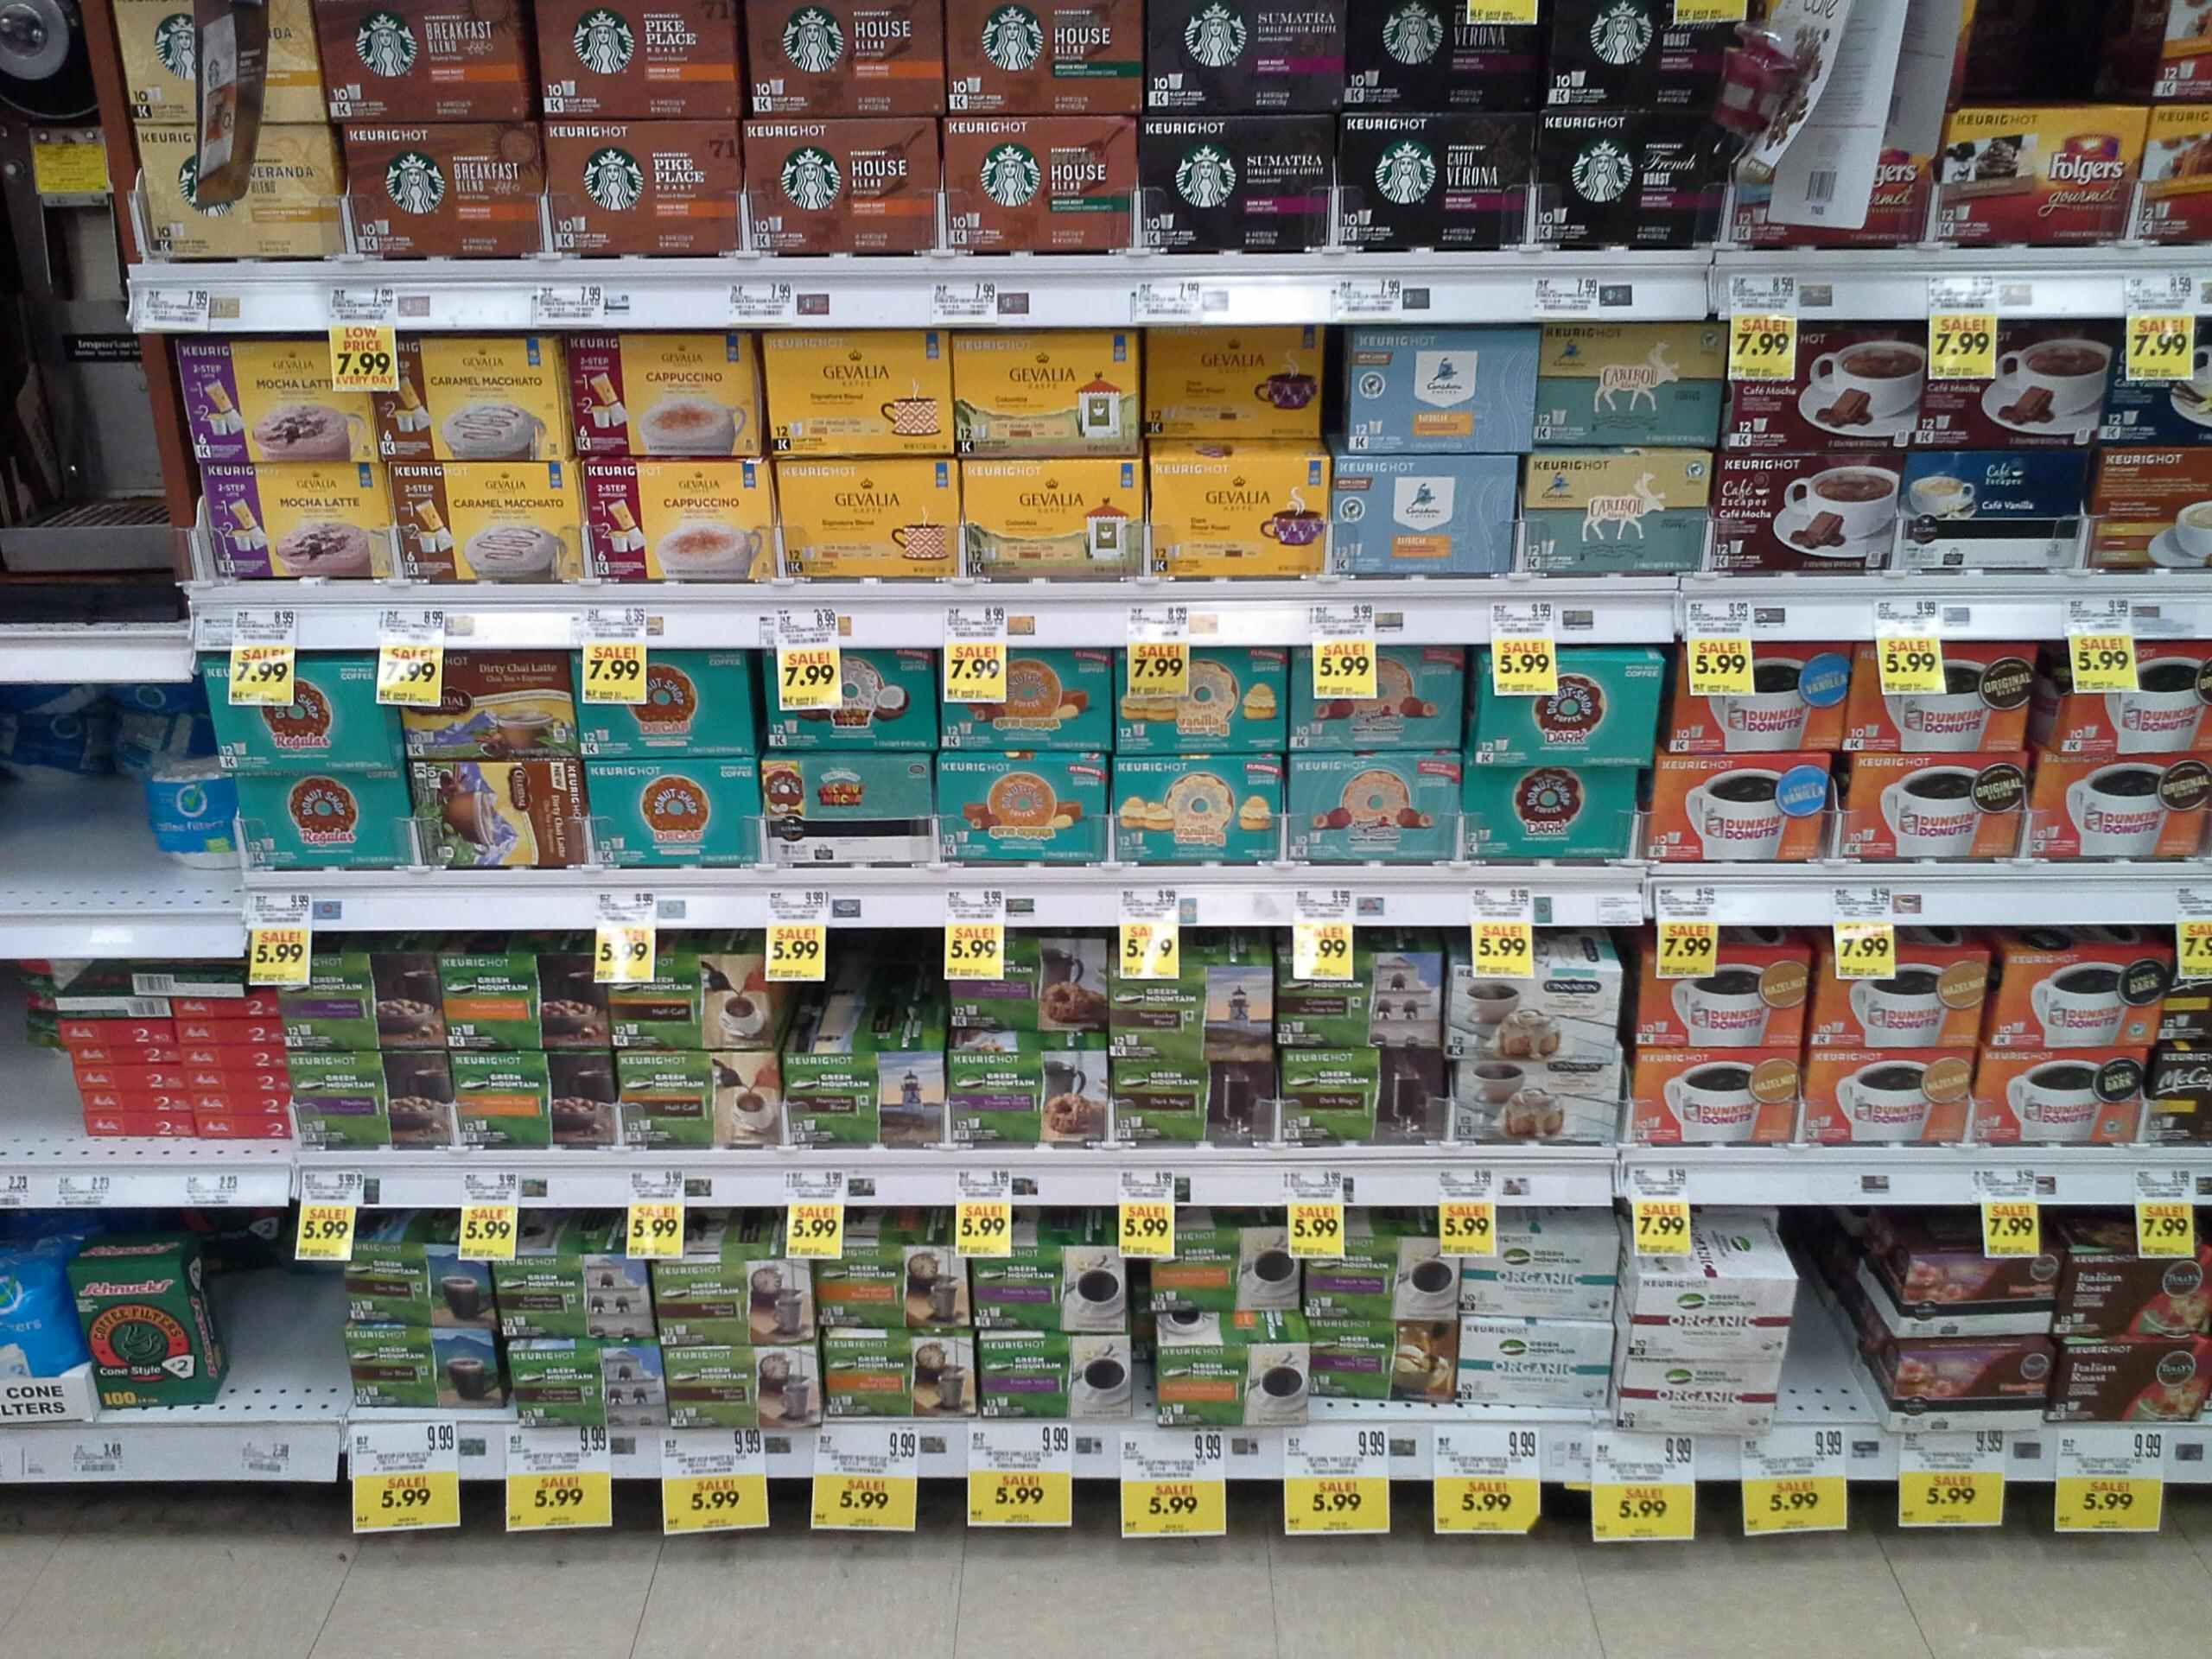empty: (45, 176, 169, 537), (214, 1234, 341, 1417), (1787, 1216, 1874, 1406)
misalignment: (411, 760, 590, 870), (45, 955, 261, 1019), (1312, 1317, 1454, 1410)
